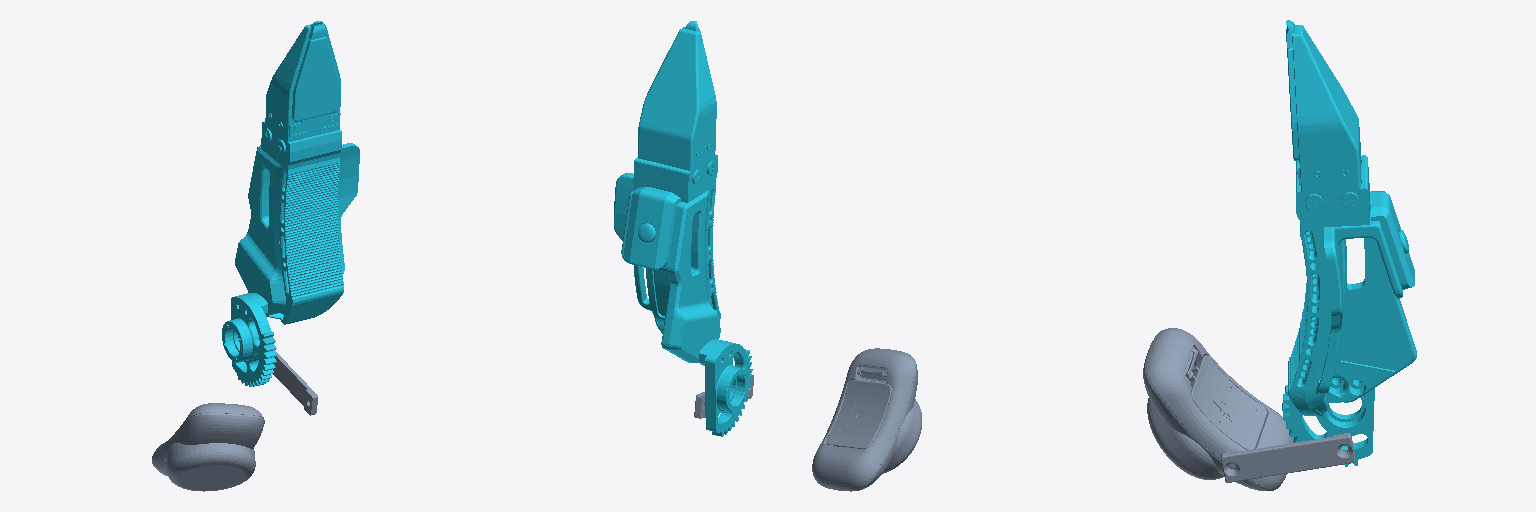
robot.urdf — taccap_g1_master_left:
<?xml version="1.0"?>
<robot name="taccap_g1_master_left">
  <!-- Root on the shell rear outer surface (centre on the tool axis), 23.5 mm above the higher fingertip holding plane; +Z tool axis, +Y left finger. All link frames share these axes; meshes keep their native CAD frame via visual origins (finger hinges along +X). EEF: centre of the closed fingertips' most distal face (mesh-derived, shared with the slave). -->
  <material name="left_shell">
    <color rgba="0.58 0.64 0.72 1" />
  </material>
  <material name="left_finger">
    <color rgba="0.20 0.83 0.94 1" />
  </material>
  <link name="left_base_link">
    <visual name="left_body_visual">
      <origin xyz="0.02065 0 0.024785" rpy="0 -1.5707963267948966 0" />
      <geometry>
        <mesh filename="../meshes/left/base_link.STL" />
      </geometry>
      <material name="left_shell" />
    </visual>
    <visual name="left_body_aux_visual">
      <origin xyz="0.0364999715519367 0 0.189421788170065" rpy="1.5707963267948966 0 -1.5707963267948966" />
      <geometry>
        <mesh filename="../meshes/left/link4.STL" />
      </geometry>
      <material name="left_shell" />
    </visual>
  </link>
  <link name="left_right_link">
    <visual>
      <origin xyz="0 0 0" rpy="0 -1.5707963267948966 0" />
      <geometry>
        <mesh filename="../meshes/left/link1.STL" />
      </geometry>
      <material name="left_finger" />
    </visual>
  </link>
  <joint name="left_right_joint" type="revolute">
    <origin xyz="0.01464997155193993 -0.0199448287448794 0.0369999972236626" rpy="0 0 0" />
    <parent link="left_base_link" />
    <child link="left_right_link" />
    <axis xyz="1 0 0" />
    <limit lower="0" upper="0.5047492196767601" effort="1" velocity="1" />
  </joint>
  <link name="left_left_link">
    <visual>
      <origin xyz="0 0 0" rpy="0 -1.5707963267948966 0" />
      <geometry>
        <mesh filename="../meshes/left/link2.STL" />
      </geometry>
      <material name="left_finger" />
    </visual>
  </link>
  <joint name="left_left_joint" type="revolute">
    <origin xyz="0.01465 0.019955 0.037" rpy="0 0 0" />
    <parent link="left_base_link" />
    <child link="left_left_link" />
    <axis xyz="1 0 0" />
    <limit lower="-0.5047492196767601" upper="0" effort="1" velocity="1" />
    <mimic joint="left_right_joint" multiplier="-1" offset="0" />
  </joint>
  <link name="left_pico_link">
    <visual>
      <geometry>
        <mesh filename="../meshes/left/link3.STL" />
      </geometry>
      <material name="left_shell" />
    </visual>
  </link>
  <joint name="left_pico_joint" type="fixed">
    <origin xyz="-0.032054 -0.023651 0.014053" rpy="2.8750023051296245 0.8599287316238766 -1.9703474638774119" />
    <parent link="left_base_link" />
    <child link="left_pico_link" />
  </joint>
  <link name="left_eef_link" />
  <joint name="left_eef_joint" type="fixed">
    <origin xyz="0.036575 0 0.1894217" rpy="0 0 0" />
    <parent link="left_base_link" />
    <child link="left_eef_link" />
  </joint>
  <!-- Wrist camera: on the dome-window axis, 19.95 mm behind the window ring (same point as the
       slave camera). Same axes as the flange: +Z optical axis, +Y left finger. -->
  <link name="left_camera_link" />
  <joint name="left_camera_joint" type="fixed">
    <origin xyz="-0.02285 0 0.04975" rpy="0 0 0" />
    <parent link="left_base_link" />
    <child link="left_camera_link" />
  </joint>
  <!-- Optical frame (REP-103): +Z optical axis, +X image right, +Y image down toward the fingers. -->
  <link name="left_camera_optical_link" />
  <joint name="left_camera_optical_joint" type="fixed">
    <origin xyz="0 0 0" rpy="0 0 -1.5707963267948966" />
    <parent link="left_camera_link" />
    <child link="left_camera_optical_link" />
  </joint>
  <!-- Massless frame matching the follower (slave) taccap_base_link, i.e. the slave mounting
       face: 11.5 mm behind the master rear surface, same axes. Not a physical part. -->
  <link name="left_follower_link" />
  <joint name="left_follower_joint" type="fixed">
    <origin xyz="0 0 -0.0115" rpy="0 0 0" />
    <parent link="left_base_link" />
    <child link="left_follower_link" />
  </joint>
</robot>

--- Render facts (derived) ---
The picture shows the robot from 3 angles, left to right: view 1: azimuth 30°, elevation 25°; view 2: azimuth 150°, elevation 25°; view 3: azimuth 270°, elevation 25°; orthographic projection.
Robot: taccap_g1_master_left — 8 links, 7 joints (2 revolute, 5 fixed); root link left_base_link; default pose: all joints at 0.
Links seen in each view (by area): view 1: left_left_link, left_pico_link, left_base_link; view 2: left_left_link, left_pico_link; view 3: left_left_link, left_pico_link, left_base_link.
Link boxes in pixels (x1,y1,x2,y2): left_left_link: [222, 21, 359, 386]; left_pico_link: [152, 403, 264, 491]; left_base_link: [273, 350, 317, 415]; left_left_link: [614, 21, 752, 436]; left_pico_link: [812, 348, 921, 491]; left_left_link: [1282, 20, 1416, 466]; left_pico_link: [1143, 328, 1293, 490]; left_base_link: [1221, 433, 1355, 482].
Size in the robot's own frame: 0.1183 by 0.0909 by 0.1994 metres.
Meshes: 5 distinct files referenced, 3 mesh visuals loaded (3 binary STL); not drawn: 2 (reference not matched to a file when rendering).
